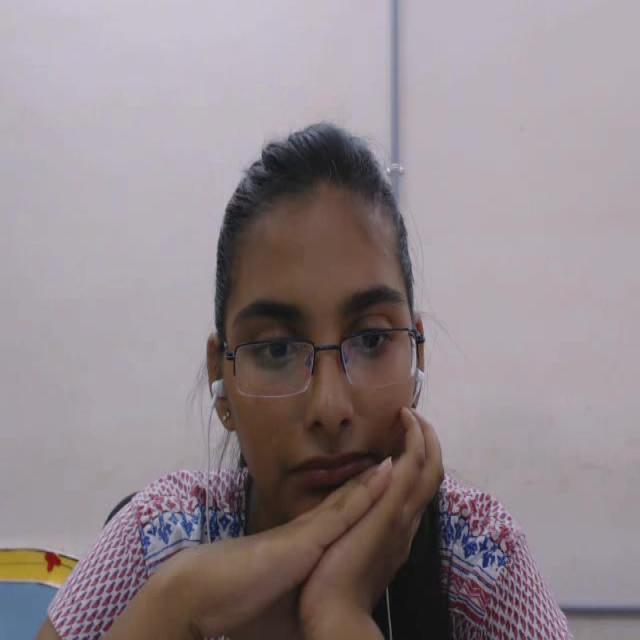Bored: (183, 110, 450, 550)
